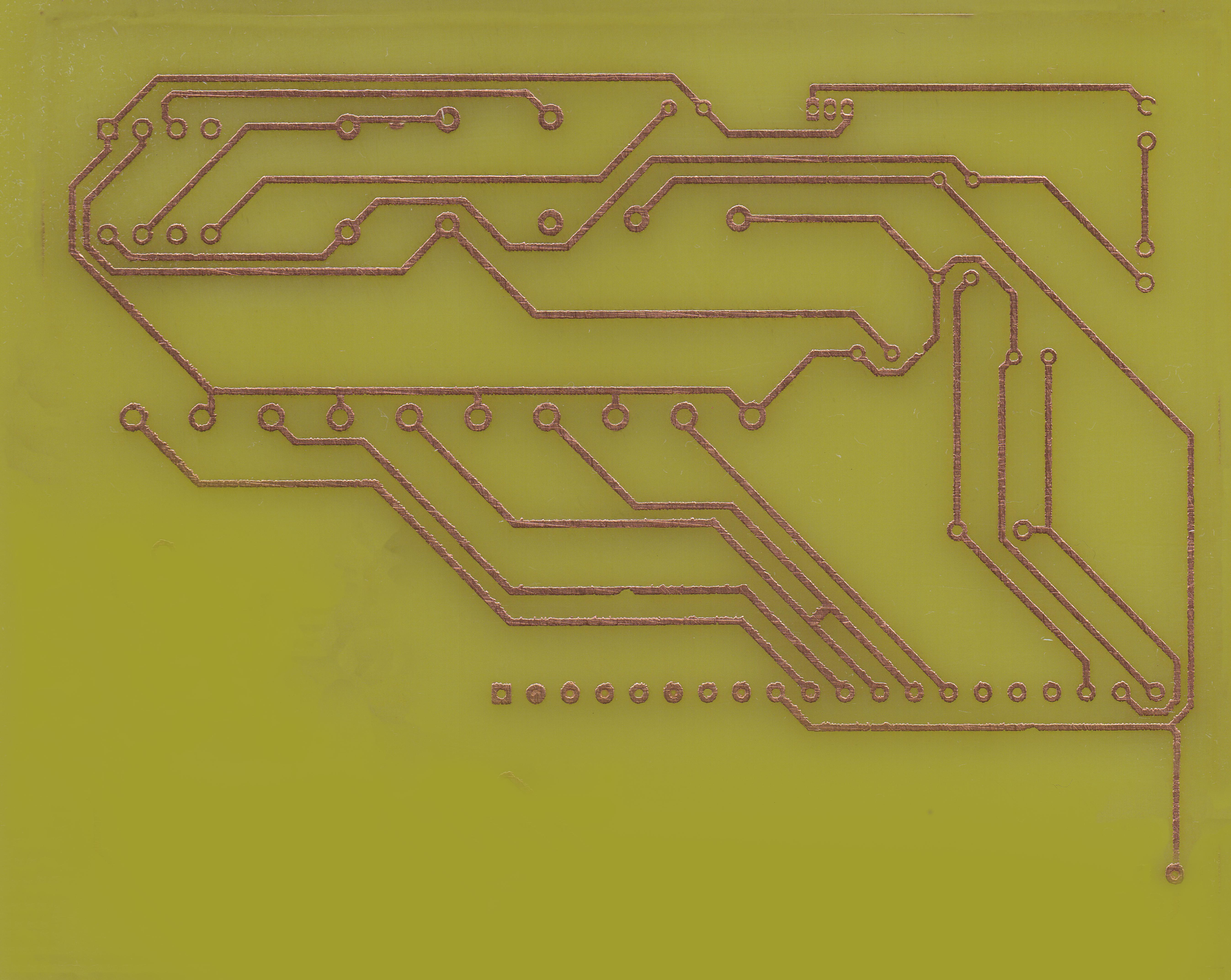missing_hole: (1137, 93, 1157, 120)
mouse_bite: (609, 578, 639, 600), (1020, 719, 1041, 735), (913, 341, 929, 361)
short: (804, 597, 833, 630)
spur: (384, 109, 412, 135)
